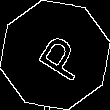P_NW: (24, 26, 86, 84)
